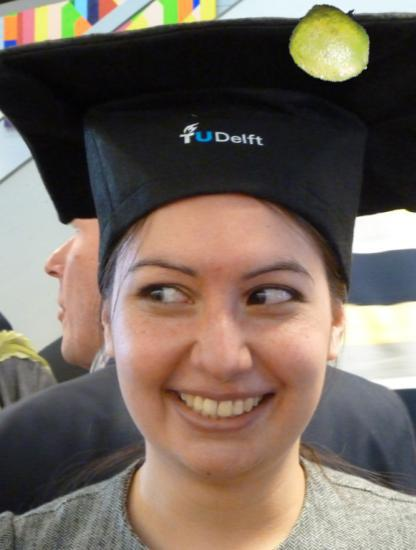Limes: (292, 2, 375, 85)
